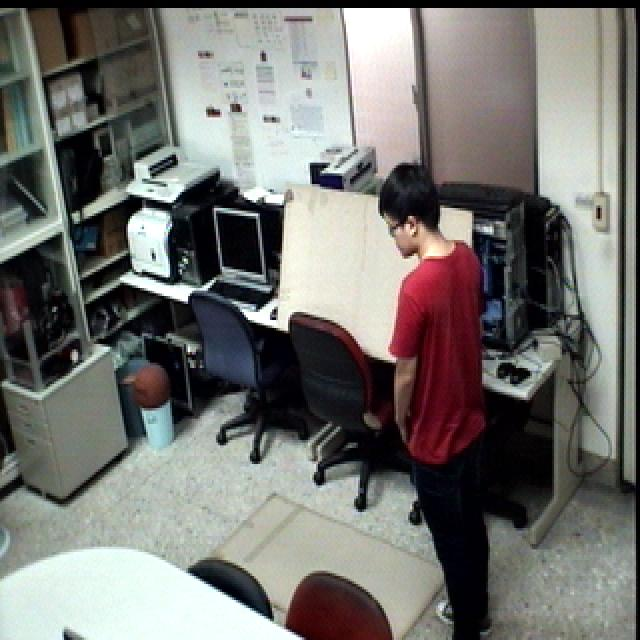stand: (373, 158, 511, 640)
